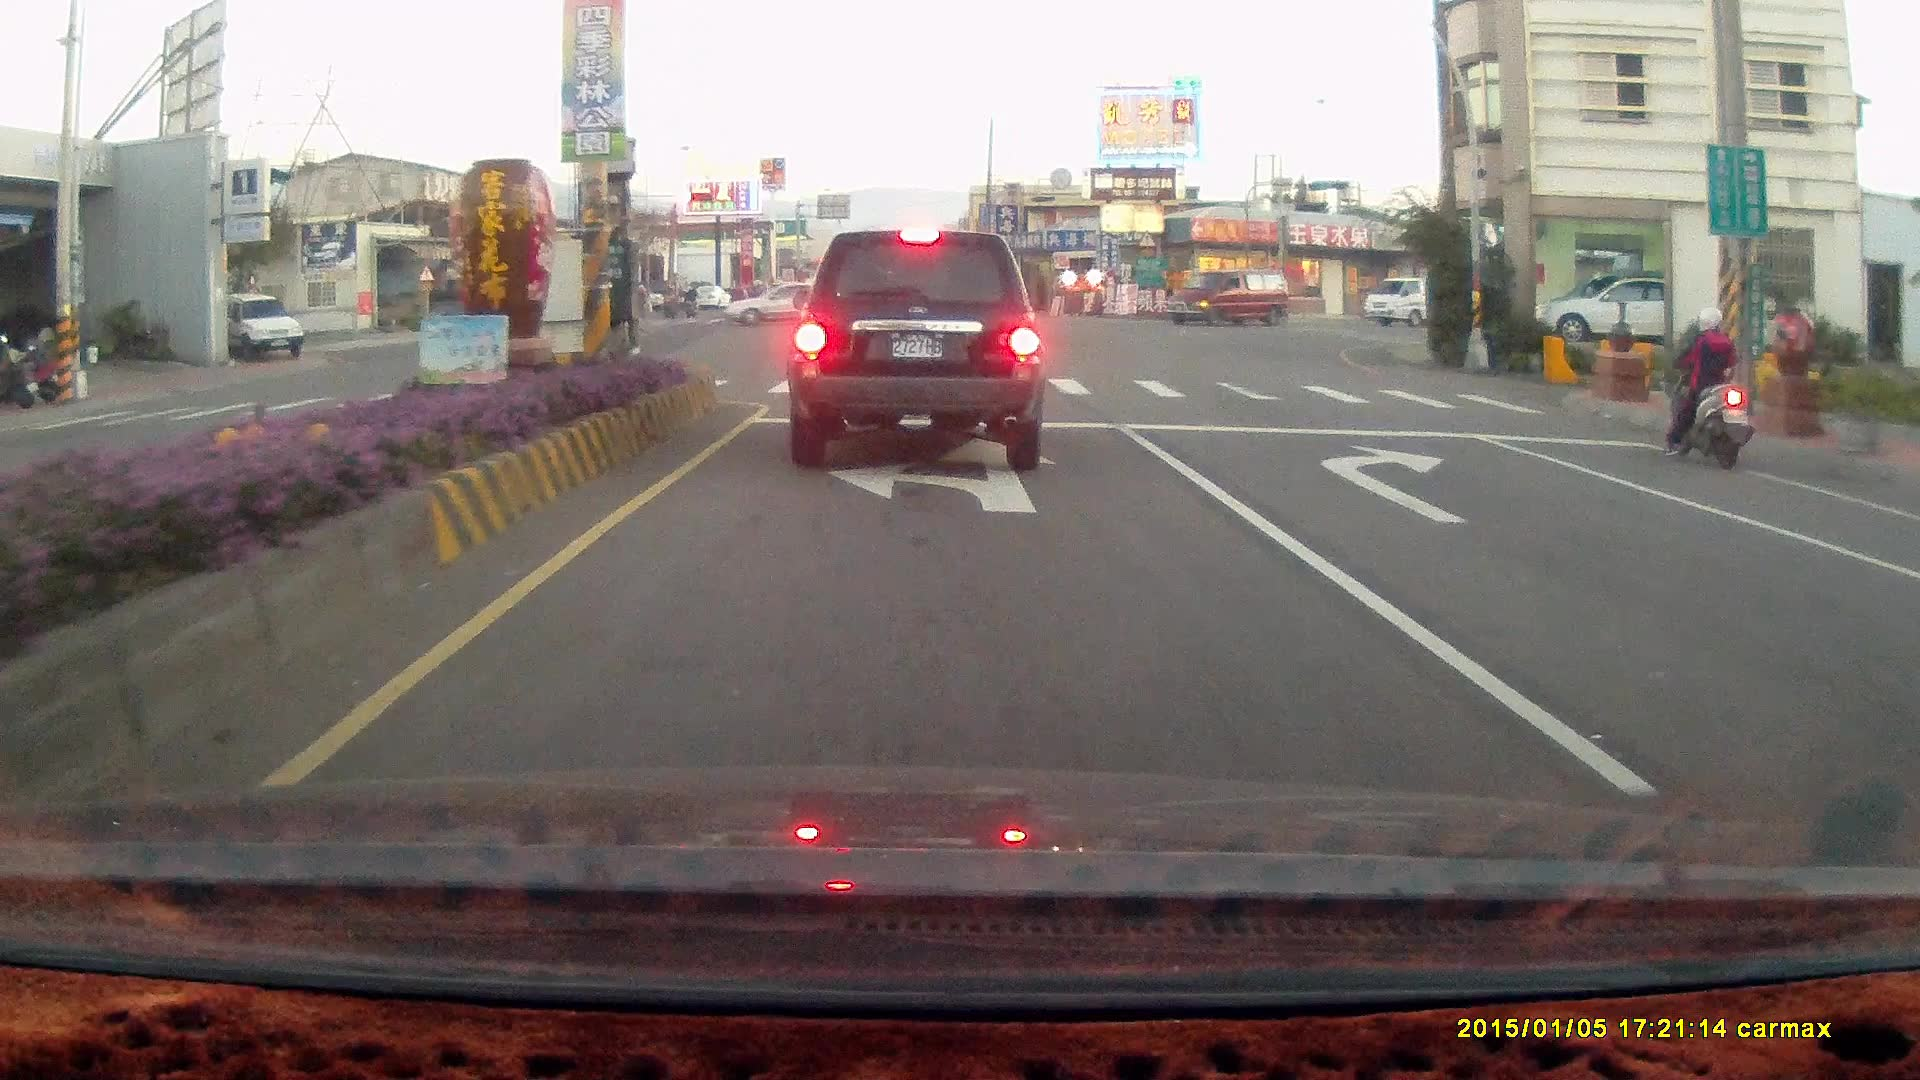rider: (1664, 303, 1753, 469)
vehicle: (784, 228, 1044, 471), (1528, 271, 1712, 347), (1896, 493, 1920, 836), (1553, 281, 1679, 344), (1161, 267, 1292, 326), (1169, 268, 1301, 326), (209, 290, 306, 361), (1883, 528, 1920, 690), (720, 279, 845, 326), (728, 280, 852, 326)
